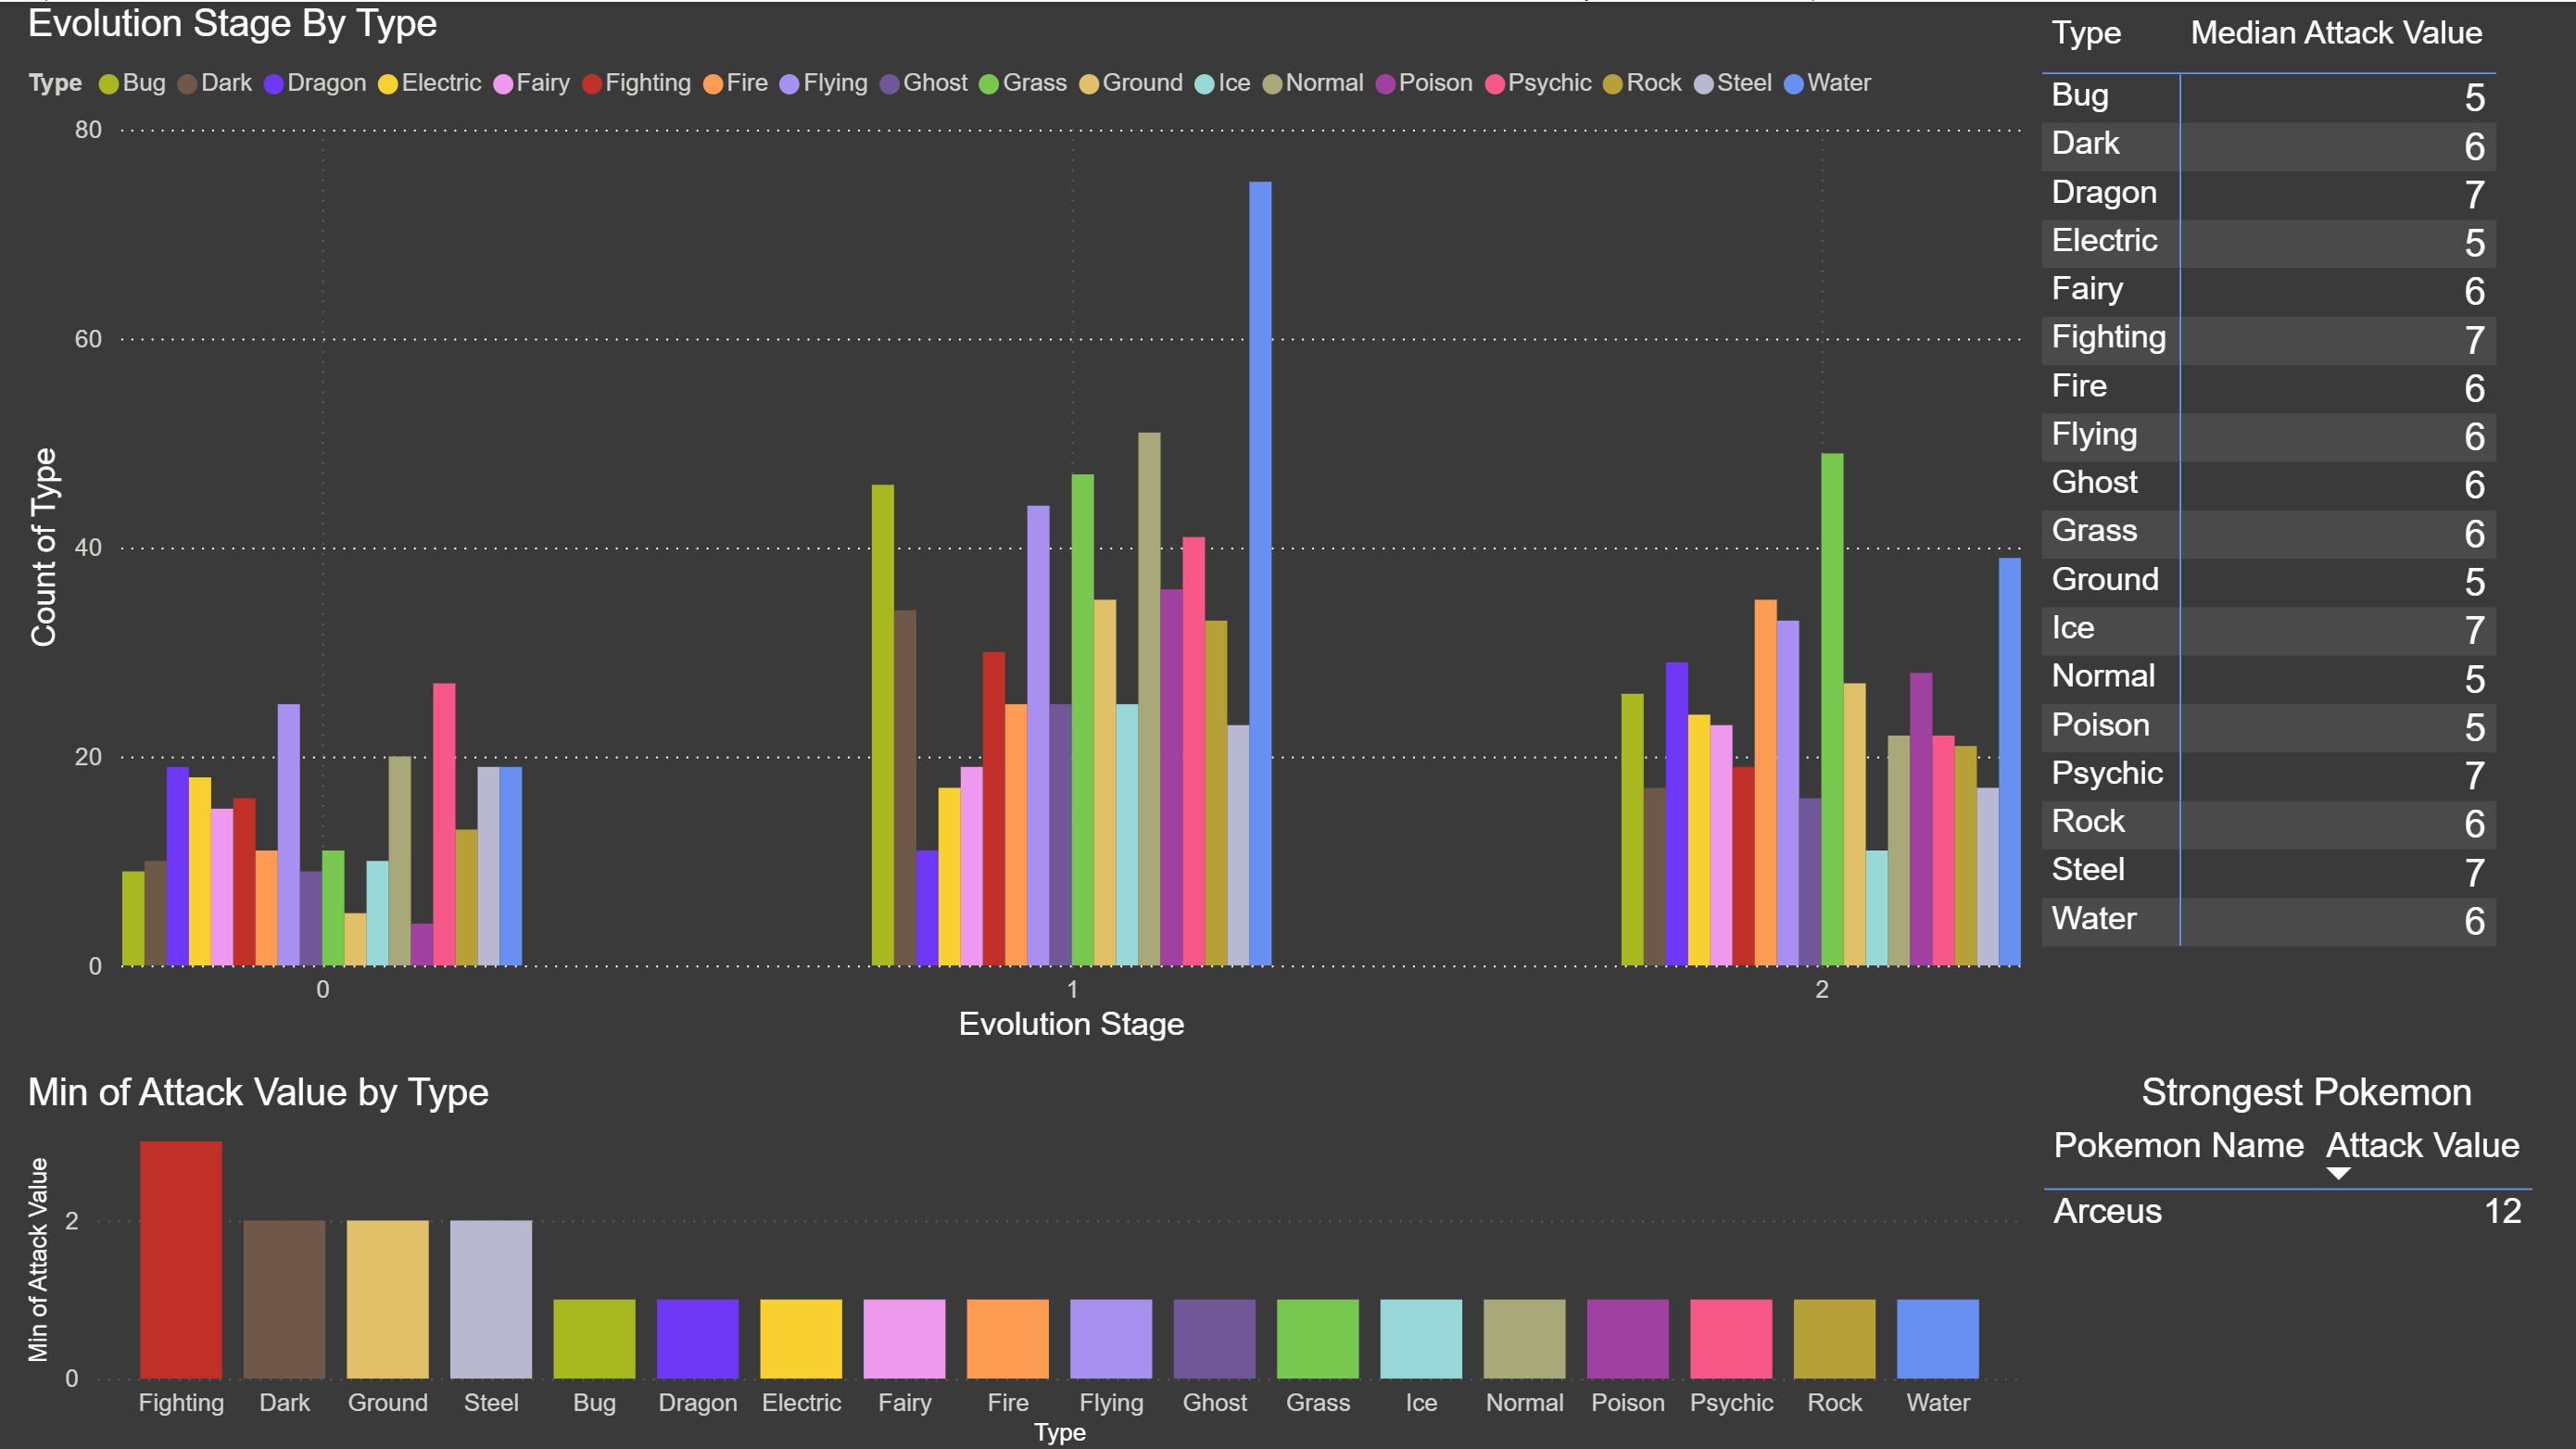

The dashboard page shown, as its layout file describes it:
{"tool":"powerbi","page":{"name":"Evolution Stages and Attack Values","canvas":[1280,720],"ordinal":2},"visuals":[{"type":"clusteredColumnChart","title":"Evolution Stage By Type","fields":{"Category":["Pokedex.Evolution Stage"],"Y":["CountNonNull(Pokedex.Type)"],"Series":["Pokedex.Type"]},"box":[9.6,0,997.6,520.1],"z":0},{"type":"pivotTable","fields":{"Rows":["Pokedex.Type"],"Values":["Median(Pokedex.Attack Value)"]},"box":[1007.2,0,273.1,520.1],"z":1000},{"type":"clusteredColumnChart","fields":{"Category":["Pokedex.Type"],"Y":["Min(Pokedex.Attack Value)"]},"box":[9.6,529.7,997.6,190.7],"z":2000},{"type":"tableEx","title":"Strongest Pokemon","fields":{"Values":["Pokedex.Pokemon Name","Max(Pokedex.Attack Value)"]},"box":[1007.2,529.7,273.1,190.7],"z":3000}]}

Visuals, with their boxes in screenshot pixels (x1, y1, x2, y2), scaled from the page's 1280x720 canvas onto the 2576x1449 screenshot:
"Evolution Stage By Type" clusteredColumnChart: [19,0,2027,1047]
pivotTable - Pokedex.Type x Median(Pokedex.Attack Value): [2027,0,2575,1047]
clusteredColumnChart - Pokedex.Type x Min(Pokedex.Attack Value): [19,1066,2027,1448]
"Strongest Pokemon" tableEx: [2027,1066,2575,1448]
